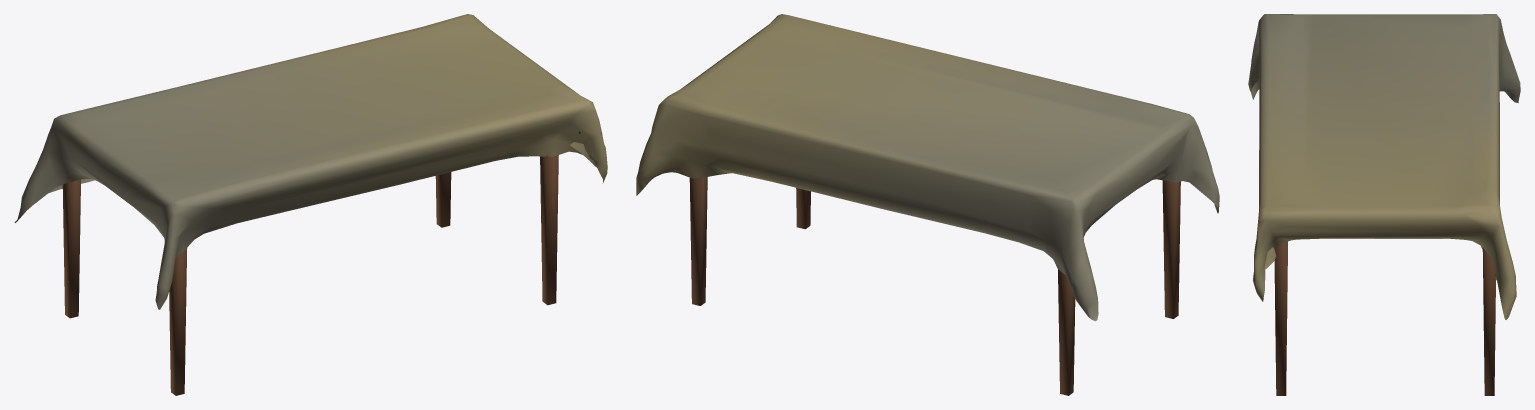
The model's file is Table.fbx.
The picture shows the model from 3 angles, left to right: view 1: azimuth 30°, elevation 25°; view 2: azimuth 150°, elevation 25°; view 3: azimuth 270°, elevation 25°; orthographic projection.
Parts seen in each view (by area): view 1: Cube.008; view 2: Cube.008; view 3: Cube.008.
Boxes of the visible parts, box(x1,y1,x2,y2) form: Cube.008: box(14, 14, 607, 395); Cube.008: box(636, 14, 1219, 395); Cube.008: box(1248, 14, 1520, 395).
Size of the model in its own units: 33.97 by 66.68 by 27.65.
